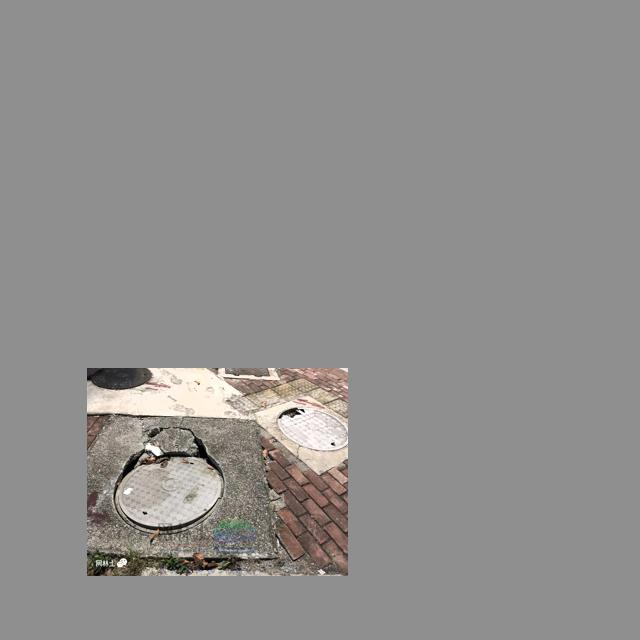circle: (89, 409, 282, 559)
